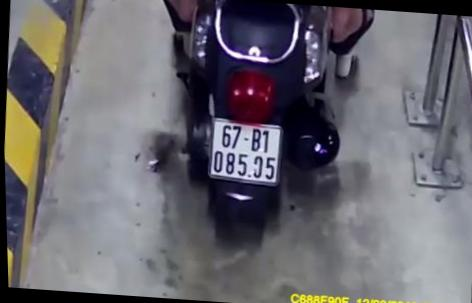LP: (203, 116, 289, 190)
